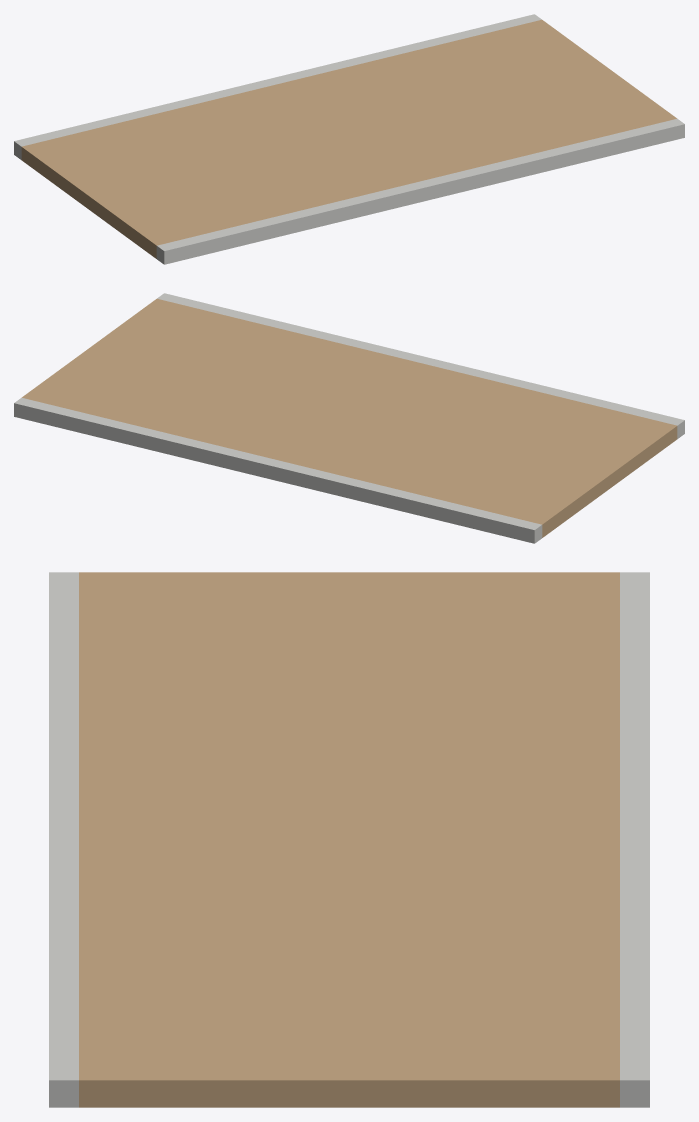
Rendered from SM_Course_Straight.fbx.
3 views of the same model, one above another, from view 1: azimuth 30°, elevation 25°; view 2: azimuth 150°, elevation 25°; view 3: azimuth 270°, elevation 25° (orthographic). The views are drawn at different scales.
Parts seen in each view (by area): view 1: SM_Course_Straight; view 2: SM_Course_Straight; view 3: SM_Course_Straight.
Part boxes in pixels (box(x1,y1,x2,y2)): SM_Course_Straight: box(14, 14, 684, 264); SM_Course_Straight: box(14, 293, 684, 543); SM_Course_Straight: box(49, 572, 649, 1107).
Bounding box in the file's own units: 400 × 10 × 200.
